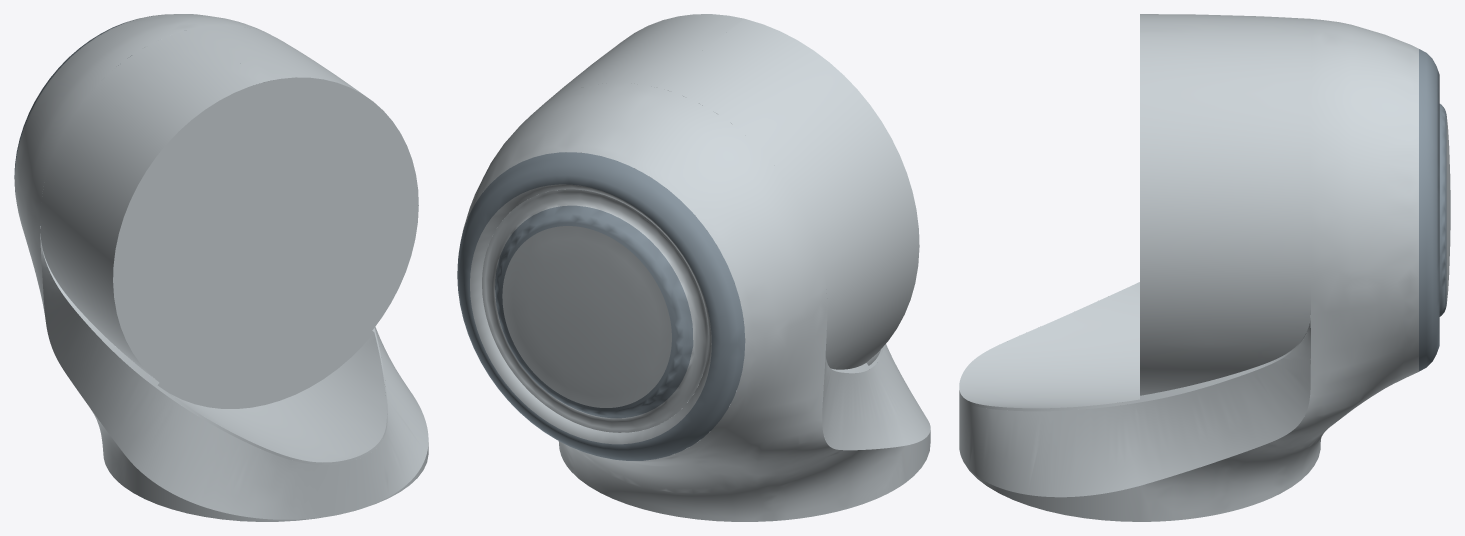
3 renders of one model, left to right at view 1: azimuth 30°, elevation 25°; view 2: azimuth 150°, elevation 25°; view 3: azimuth 270°, elevation 25°, orthographic. The views are drawn at different scales.
Visible parts, largest first — view 1: link_1.design_diana_v2.link_1; view 2: link_1.design_diana_v2.link_1; view 3: link_1.design_diana_v2.link_1.
Boxes of the visible parts, x1=… form: link_1.design_diana_v2.link_1: x1=14, y1=14, x2=428, y2=521; link_1.design_diana_v2.link_1: x1=457, y1=14, x2=930, y2=521; link_1.design_diana_v2.link_1: x1=959, y1=14, x2=1450, y2=521.
Bounding box in the file's own units: 0.152 × 0.1903 × 0.1765.
